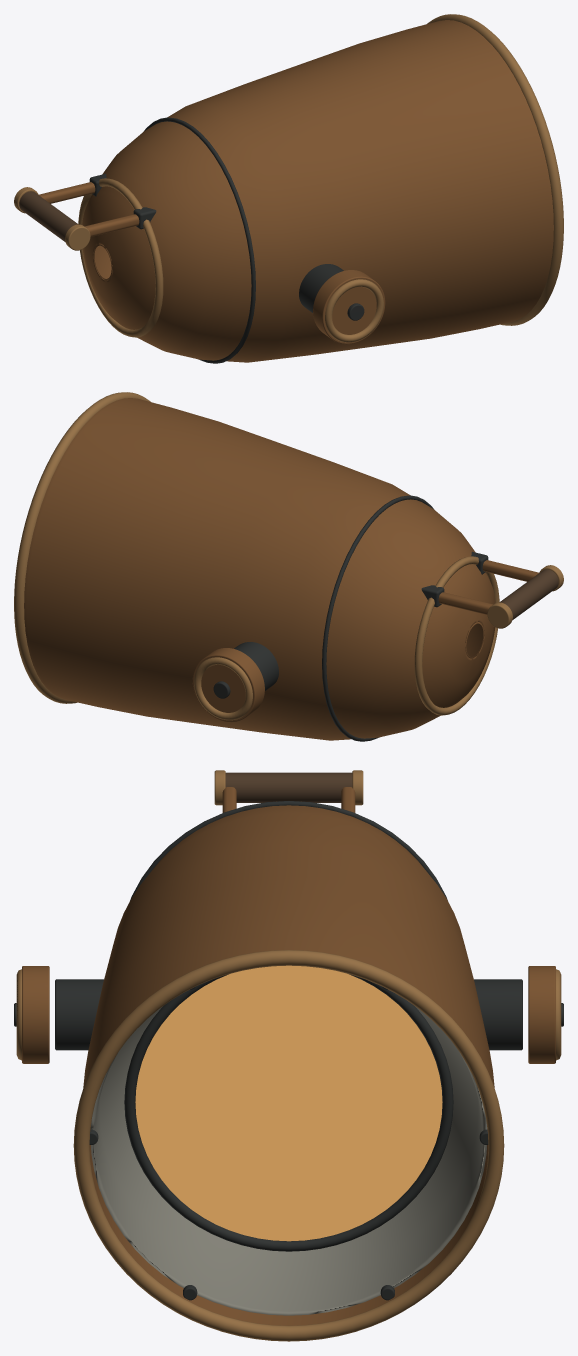
File: SM_DY_LampBody_Source.fbx
The picture shows the model from 3 angles, top to bottom: view 1: azimuth 30°, elevation 25°; view 2: azimuth 150°, elevation 25°; view 3: azimuth 270°, elevation 25°; orthographic projection. The views are drawn at different scales.
Visible parts, largest first — view 1: SM_DY_LampBody_Source; view 2: SM_DY_LampBody_Source; view 3: SM_DY_LampBody_Source.
Part boxes in pixels (x1,y1,x2,y2): SM_DY_LampBody_Source: [14, 14, 563, 363]; SM_DY_LampBody_Source: [14, 392, 563, 741]; SM_DY_LampBody_Source: [14, 770, 563, 1341].
Size of the model in its own units: 0.695 by 0.877 by 0.544.
